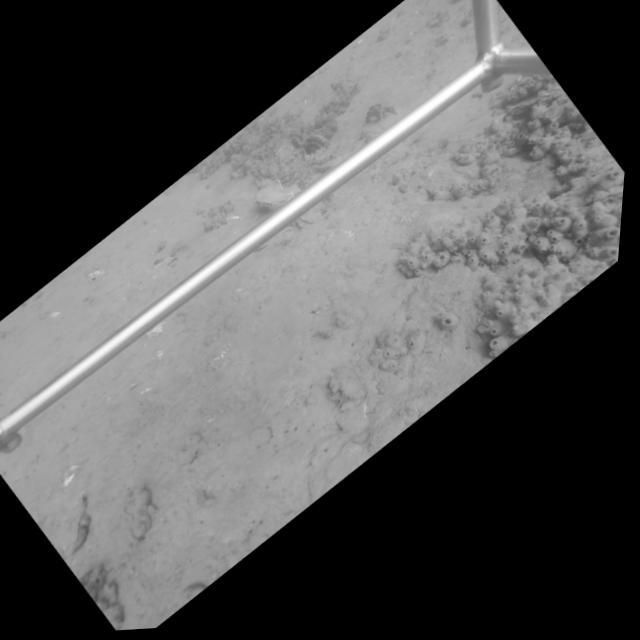Oyster-Closed: (500, 86, 562, 123), (60, 494, 95, 558), (252, 175, 304, 209)
Oyster-Open: (364, 101, 404, 123)
